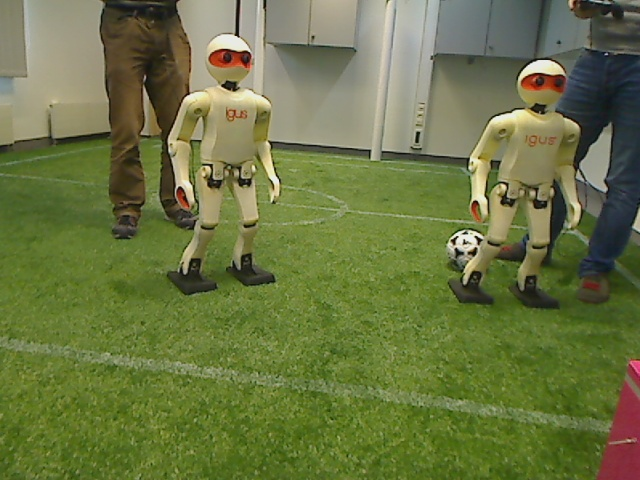ball: (443, 226, 488, 273)
robot: (158, 32, 286, 296), (459, 60, 584, 307)
